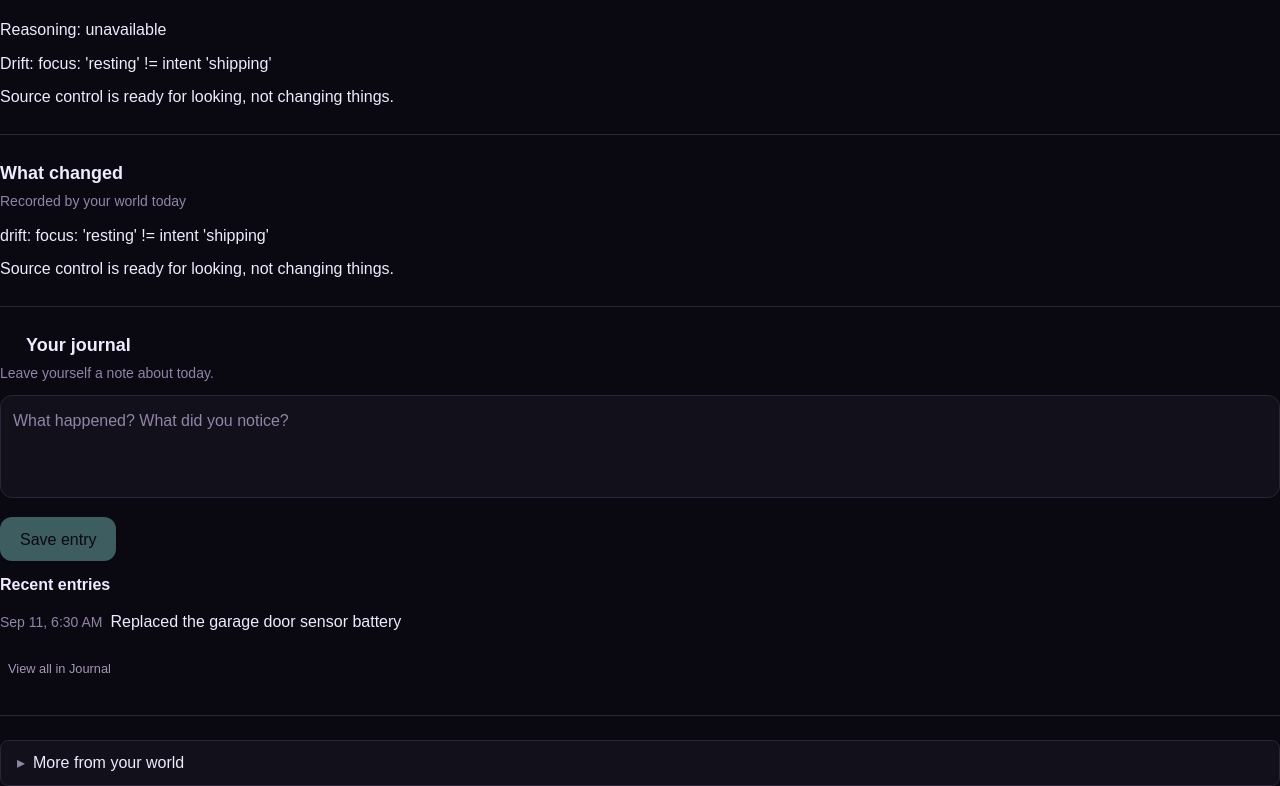
Scenario: TodayScreen (T10, parity rows 1–3) › keyboard-only add flow works (fill fields via keyboard, activate with Enter)
(page scrolled)
Click the text "More from your world". click: coordinates (109, 763)
box: [33, 750, 184, 776]
(page scrolled)
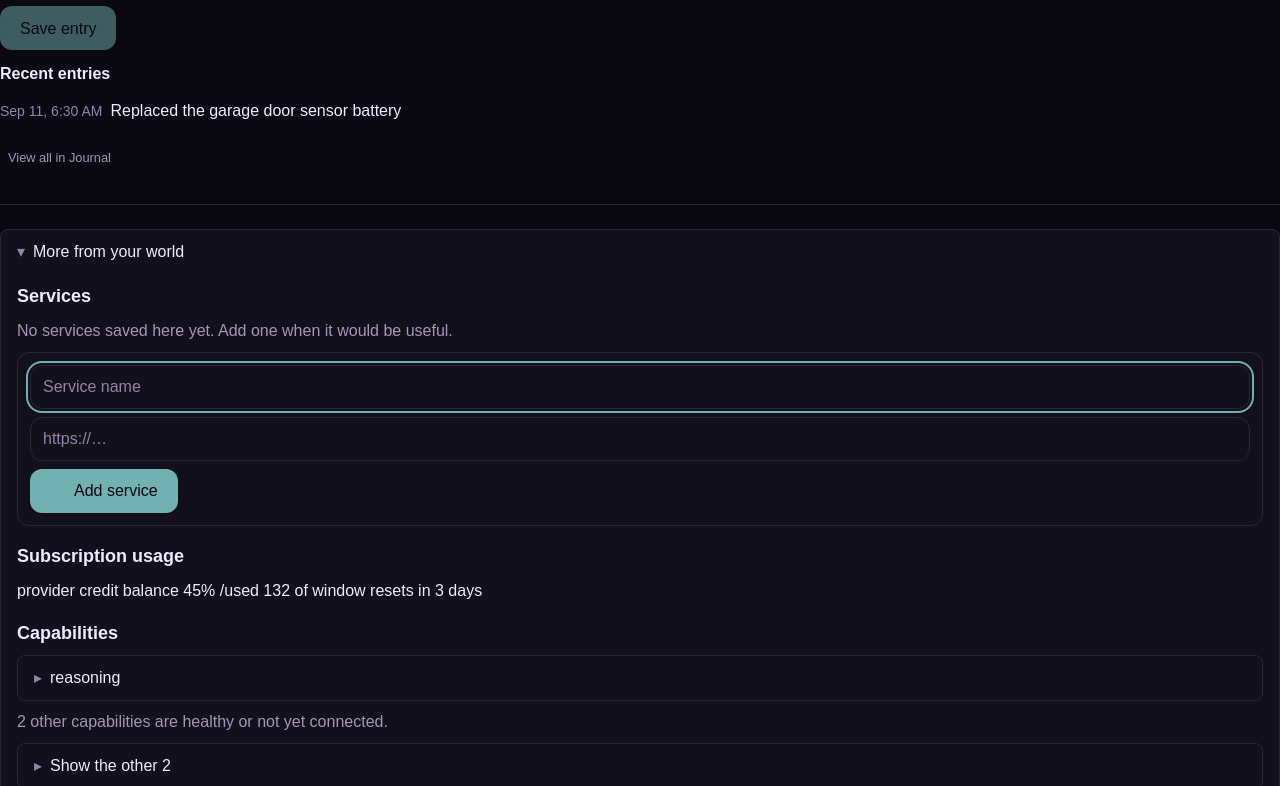
Type "Jellyfin" into the field labelled "Service name". click: coordinates (640, 386)
box: [30, 364, 1250, 408]
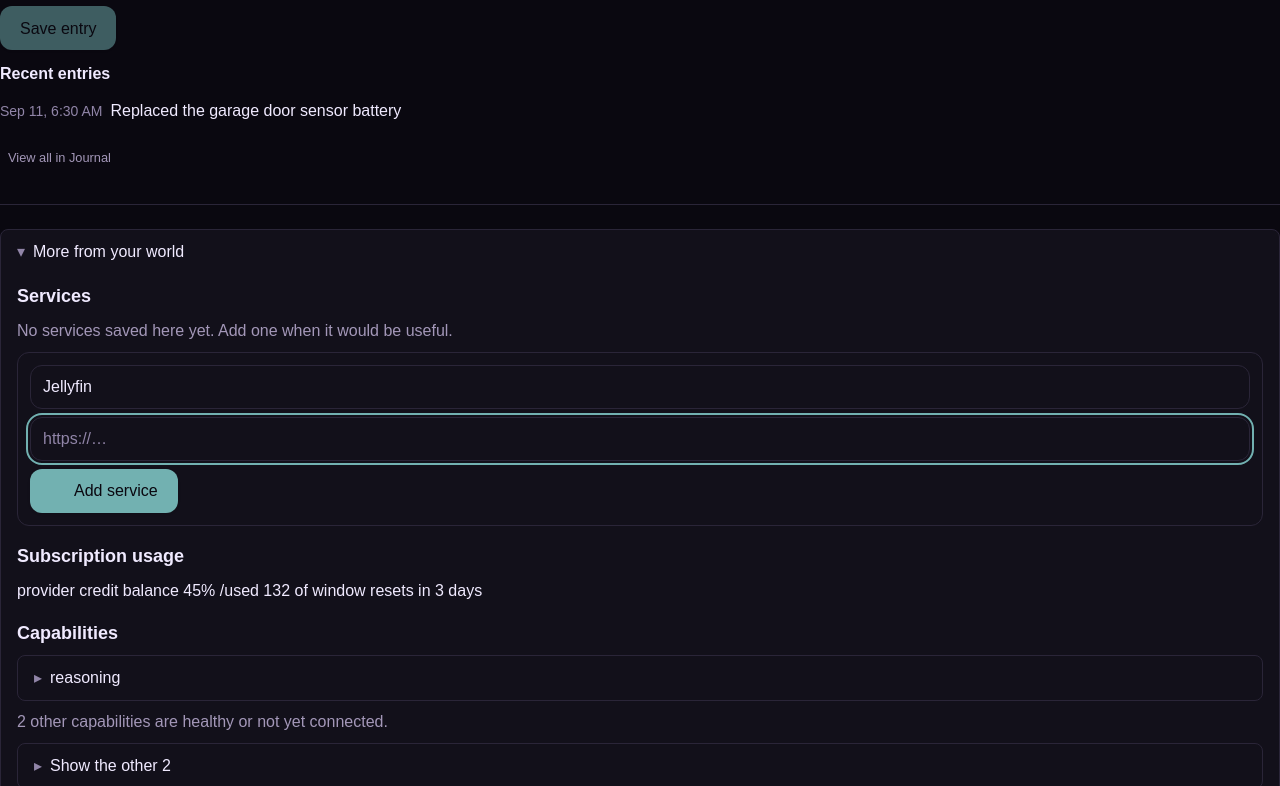
Type "http://media.local:8096" into the field named "Service address". click: coordinates (640, 438)
box: [30, 416, 1250, 460]
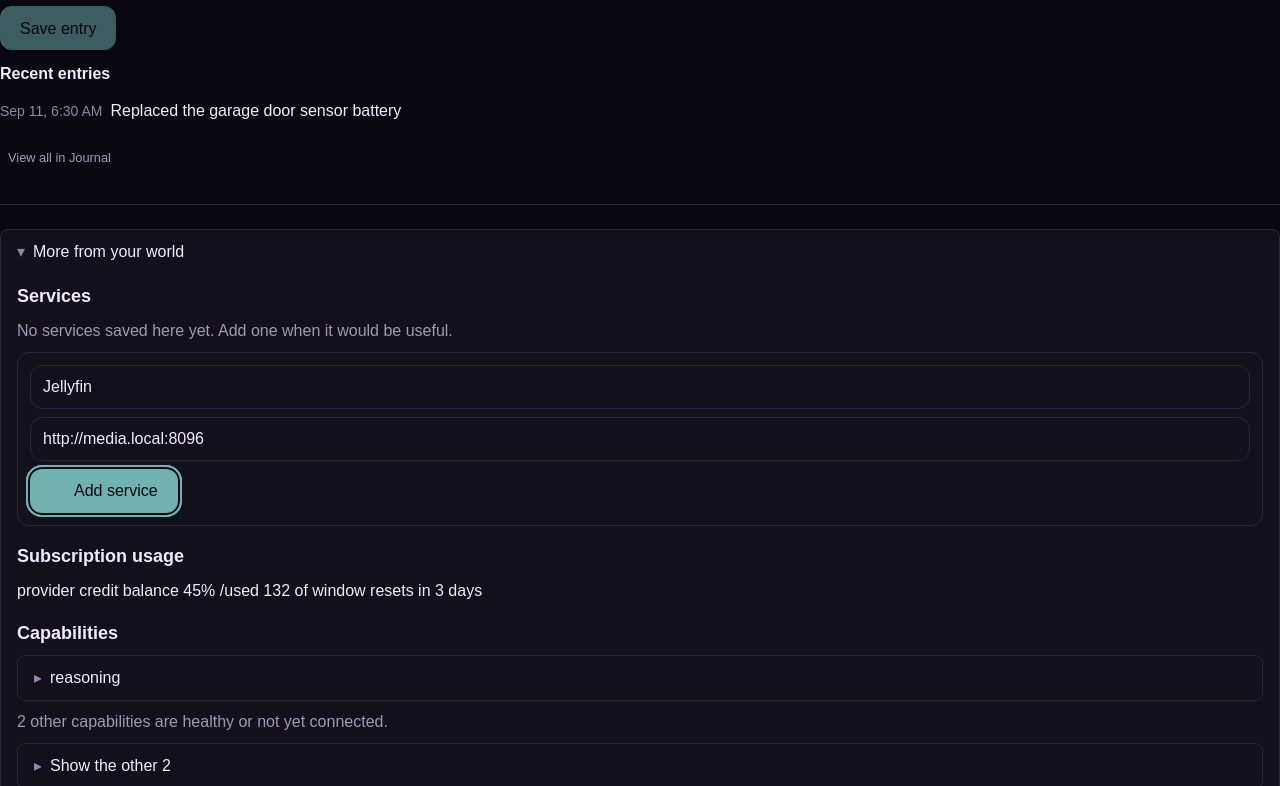
Press Enter in the button "Add service", box [30, 468, 178, 512]
Click the button "Add service". click: coordinates (104, 490)
box: [30, 468, 178, 512]
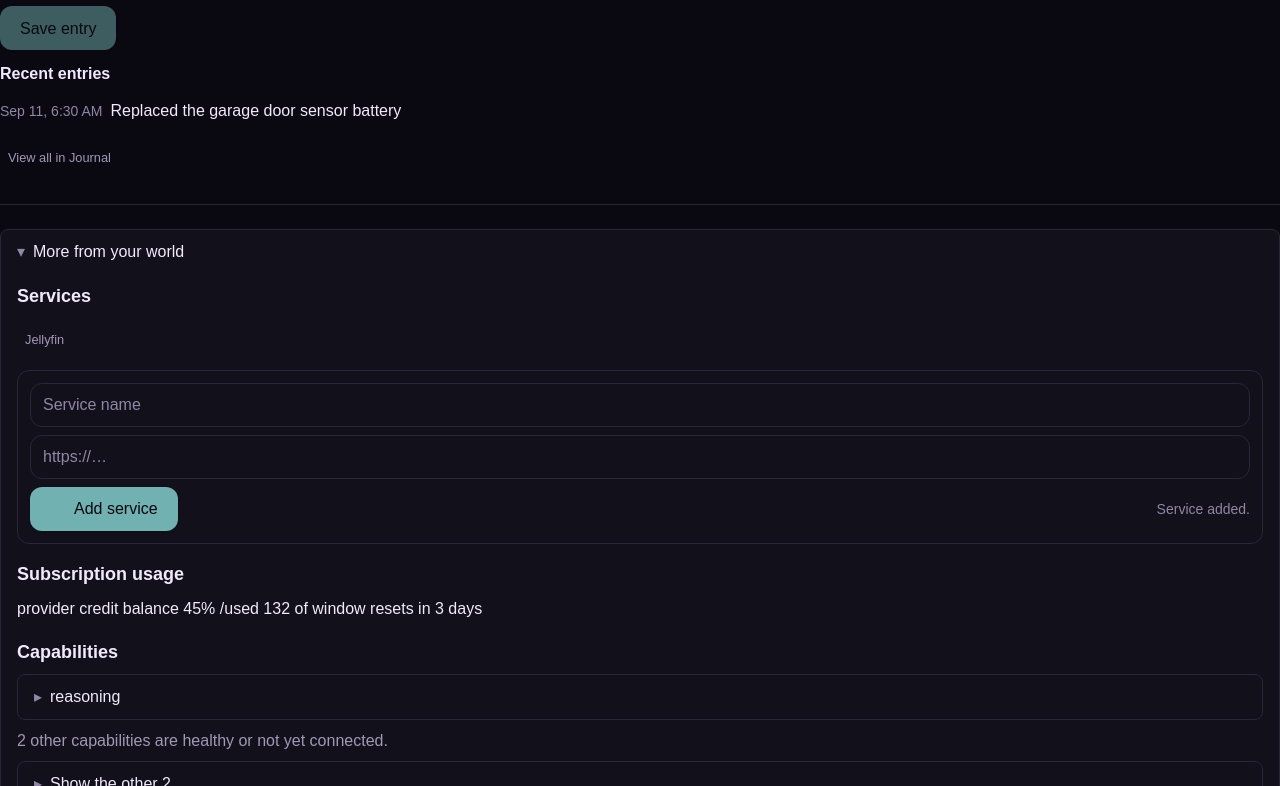
Now the link "Jellyfin" is shown, box [25, 332, 64, 347]
